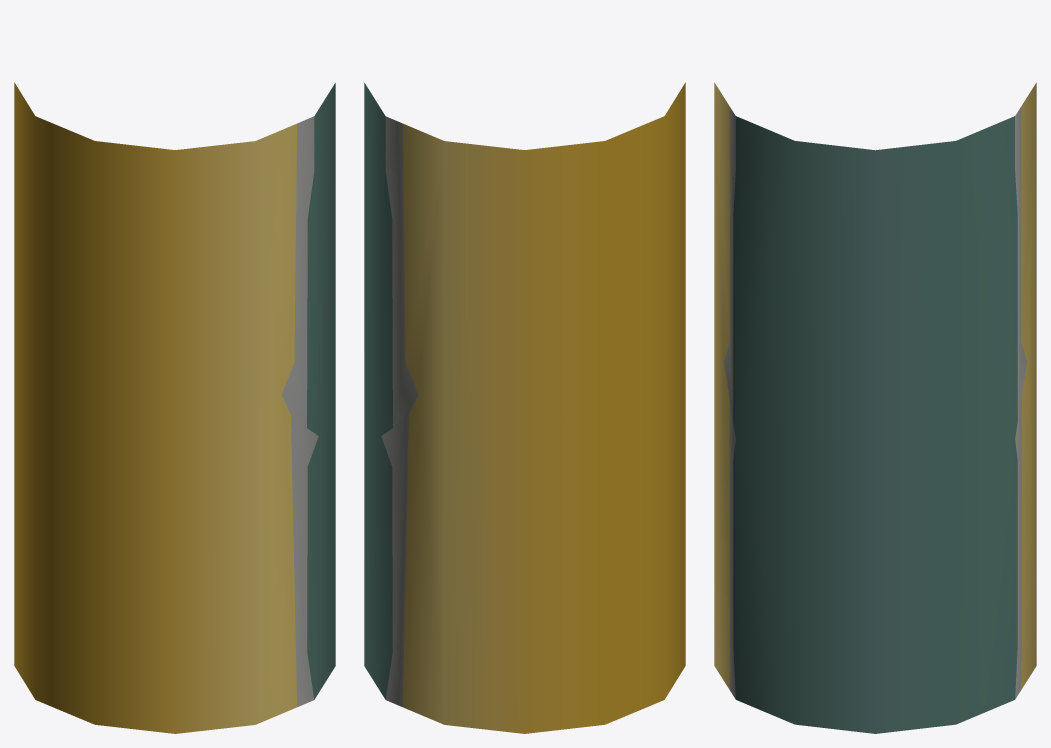
Rendered from SubTube.glb.
3 views of the same model, side by side, from view 1: azimuth 30°, elevation 25°; view 2: azimuth 150°, elevation 25°; view 3: azimuth 270°, elevation 25° (orthographic).
Visible parts, largest first — view 1: SubTube; view 2: SubTube; view 3: SubTube.
Boxes of the visible parts, x1,y1,x2,y2 form: SubTube: (14,82,335,733); SubTube: (364,82,685,733); SubTube: (714,82,1036,733).
Bounding box in the file's own units: 2 × 4 × 2.
